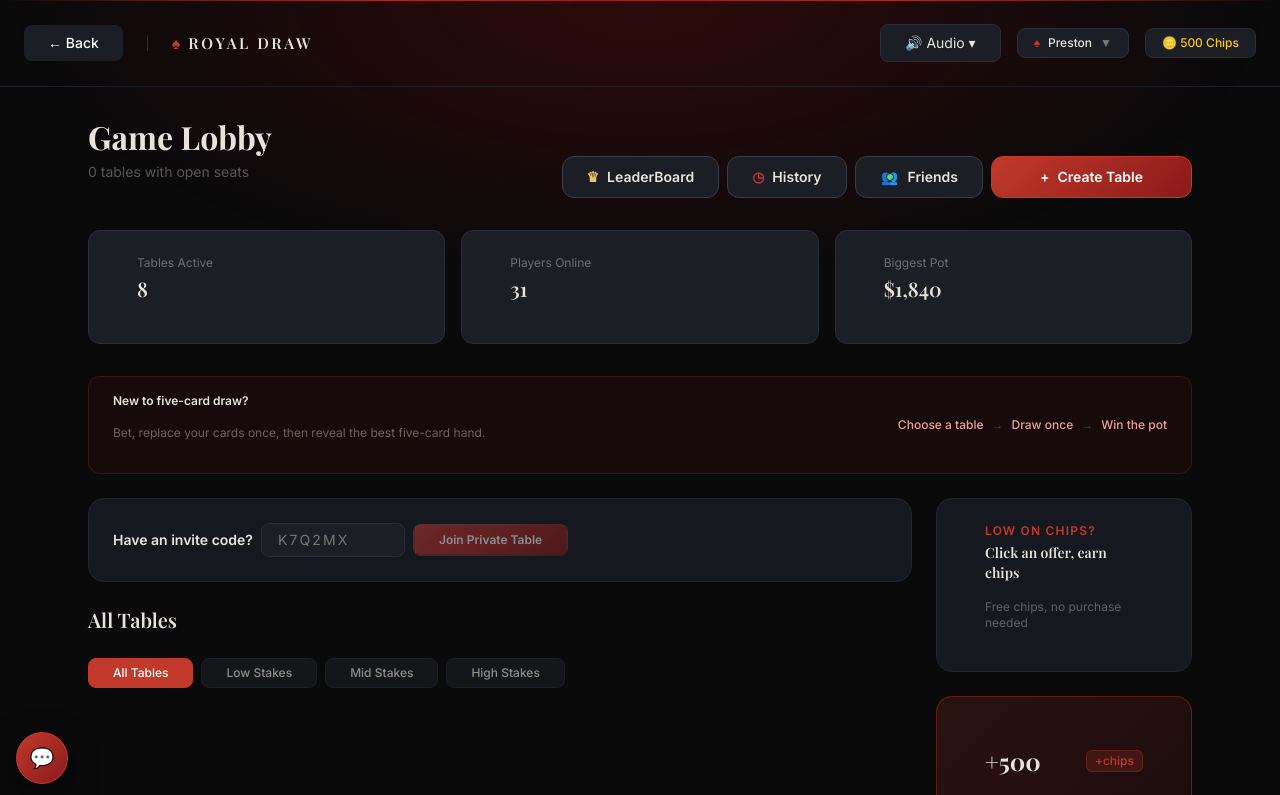
Test: History button (P13) › members have a History button that opens their game history
Click the button "◷ History" at [787, 177], box [727,156,846,198]
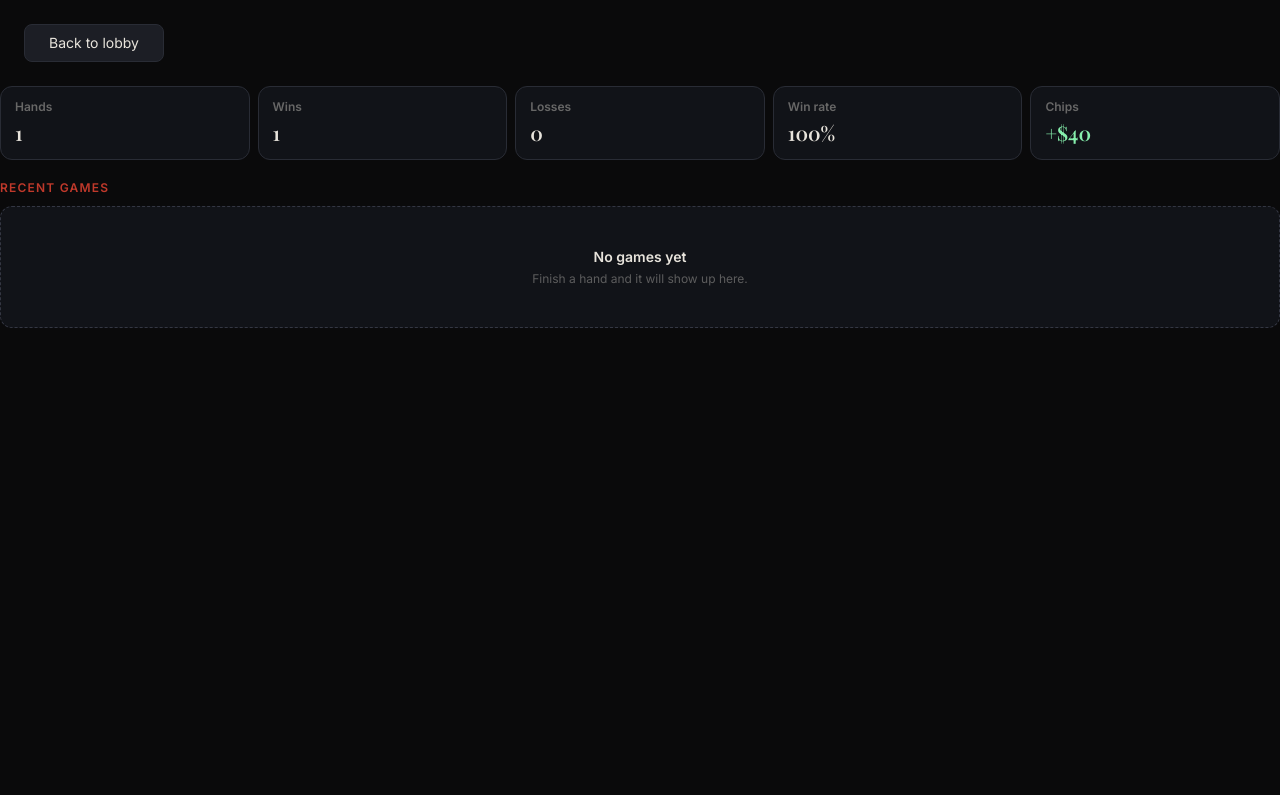
Now the text "No games yet" is shown, box [594,248,686,265]
Now the button "Back to lobby" is shown, box [24,24,164,62]
